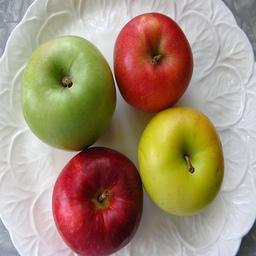apple: (20, 35, 116, 151), (51, 147, 144, 254), (138, 107, 225, 216), (113, 12, 194, 113)
